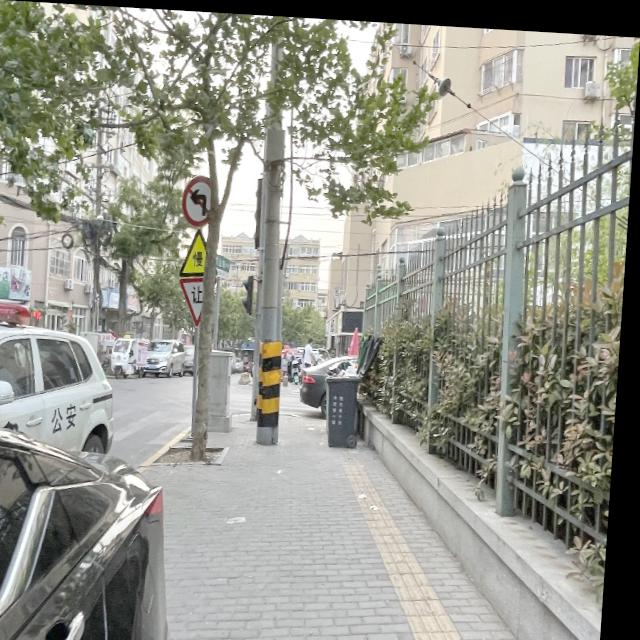overflow: (327, 352, 365, 443)
